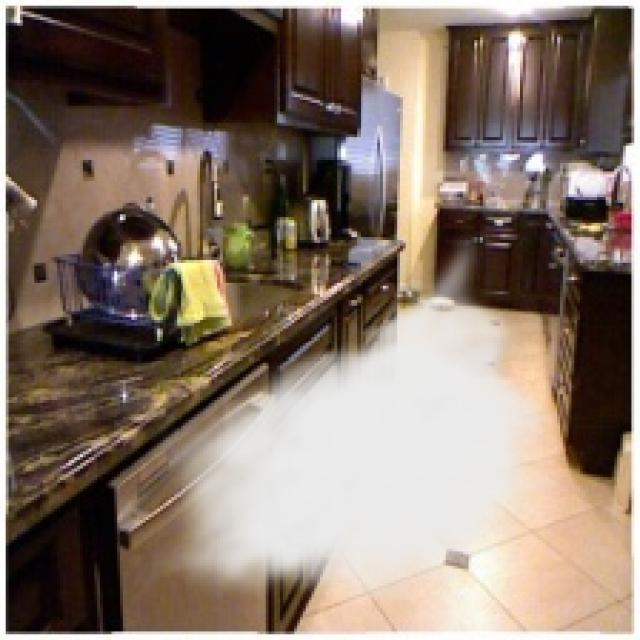Smoke: (148, 226, 563, 614)
